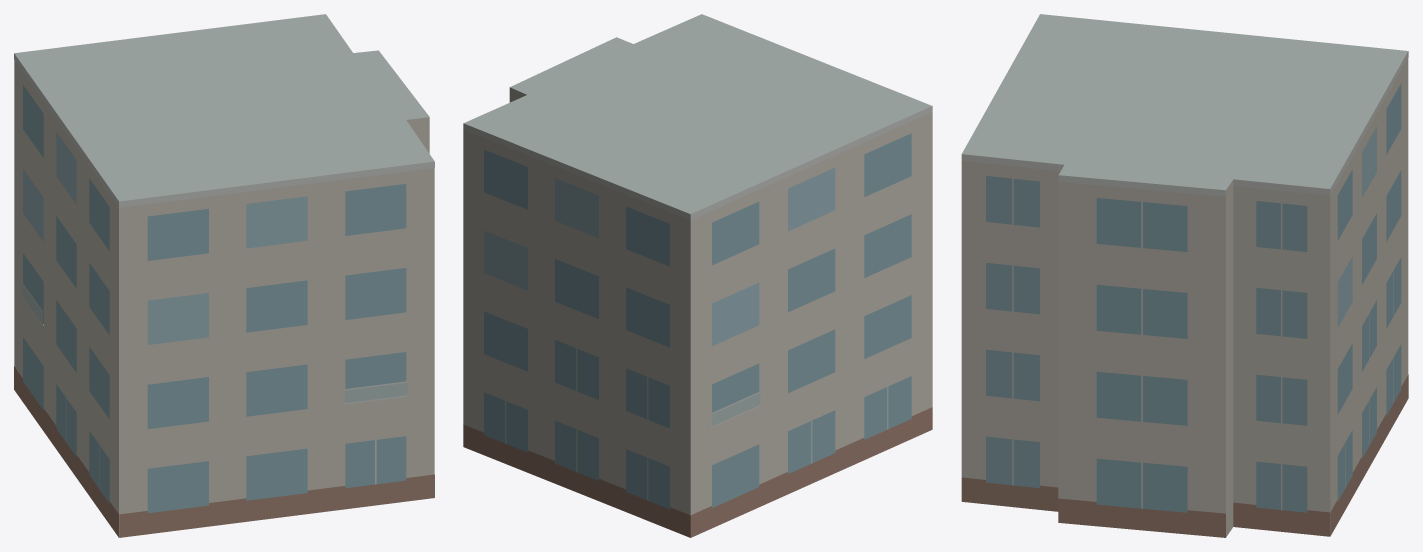
Rendered from survey-upis-32929046.glb.
3 renders of one model, left to right at view 1: azimuth 30°, elevation 25°; view 2: azimuth 150°, elevation 25°; view 3: azimuth 270°, elevation 25°, orthographic. The views are drawn at different scales.
Visible parts, largest first — view 1: survey-upis-32929046.tmp; view 2: survey-upis-32929046.tmp; view 3: survey-upis-32929046.tmp.
Part boxes in pixels (bbox=[...]): survey-upis-32929046.tmp: bbox=[14, 14, 434, 537]; survey-upis-32929046.tmp: bbox=[463, 14, 932, 537]; survey-upis-32929046.tmp: bbox=[961, 14, 1408, 537].
Size of the model in its own units: 13.93 by 12.8 by 14.92.
